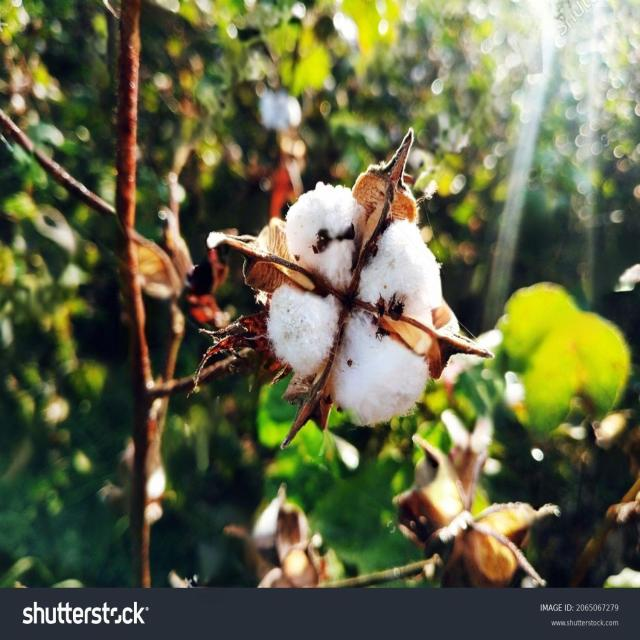Leaf: (179, 98, 514, 464)
